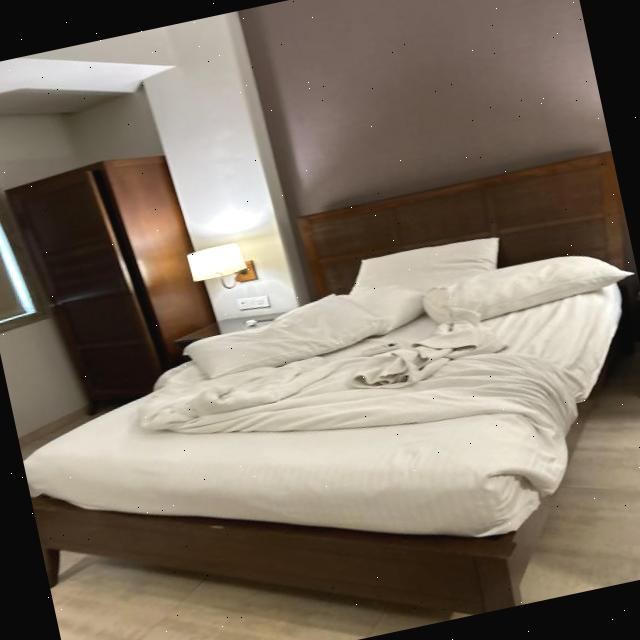Disorganized_pillow: (175, 236, 637, 389)
clean_floor: (53, 401, 640, 640)
mess: (224, 306, 560, 452)
messy_bed: (23, 149, 632, 611)
